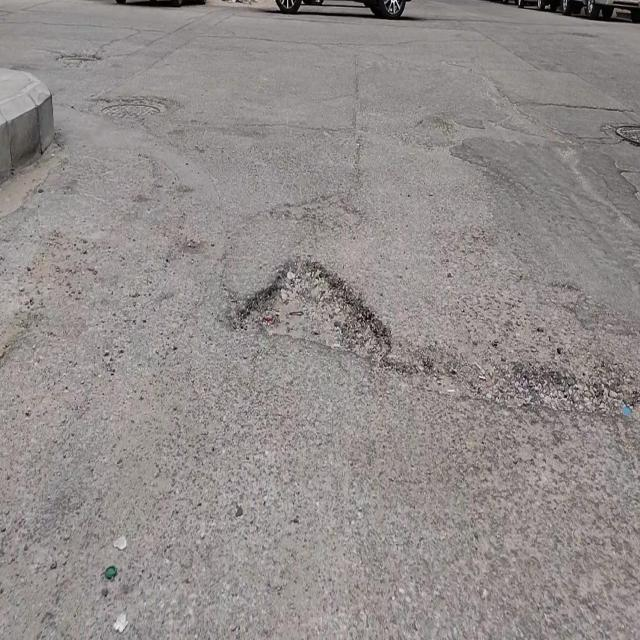Pothole: (244, 259, 392, 366)
